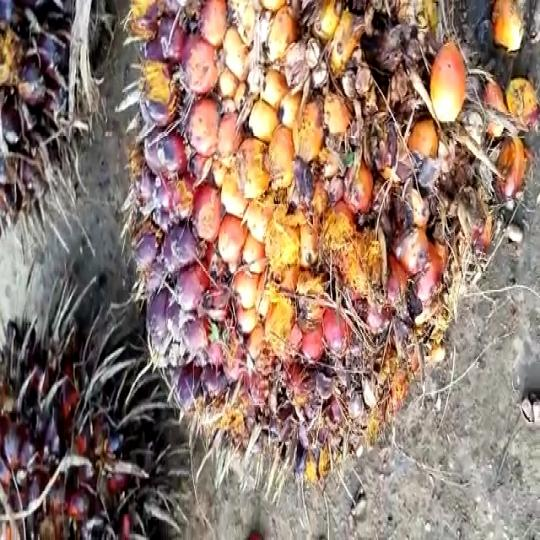masak: (131, 0, 533, 458)
